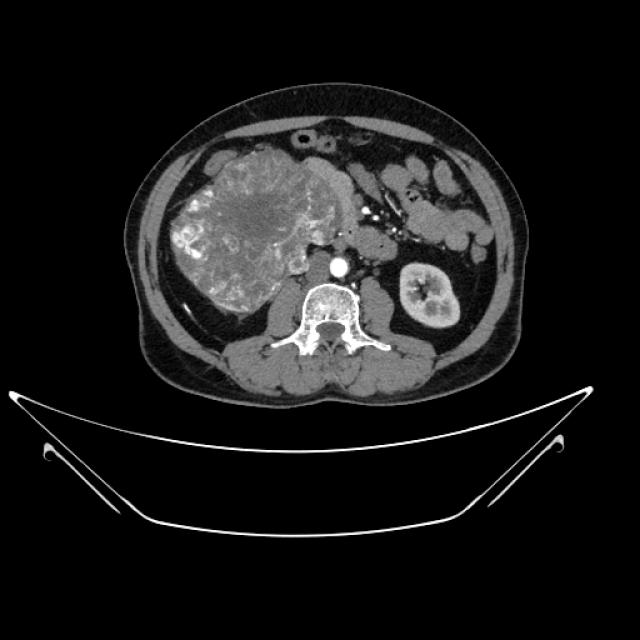Tumor: (174, 148, 348, 310)
